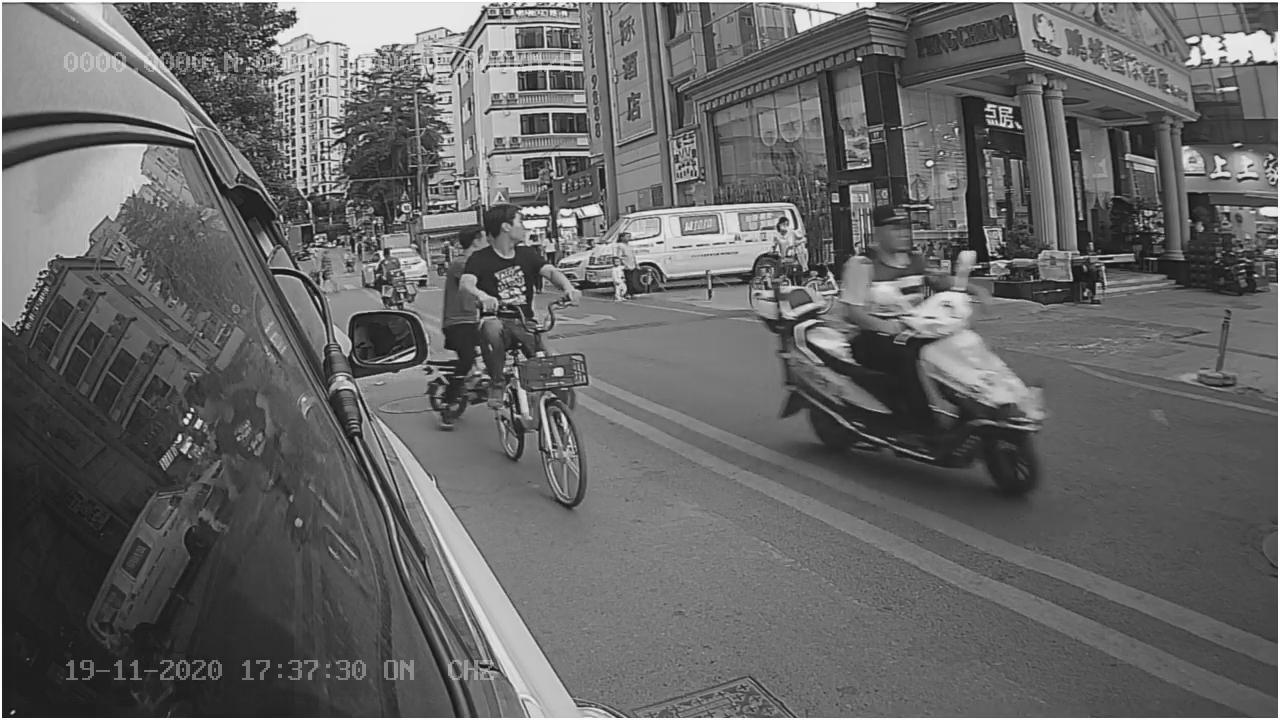person: (466, 206, 568, 304)
